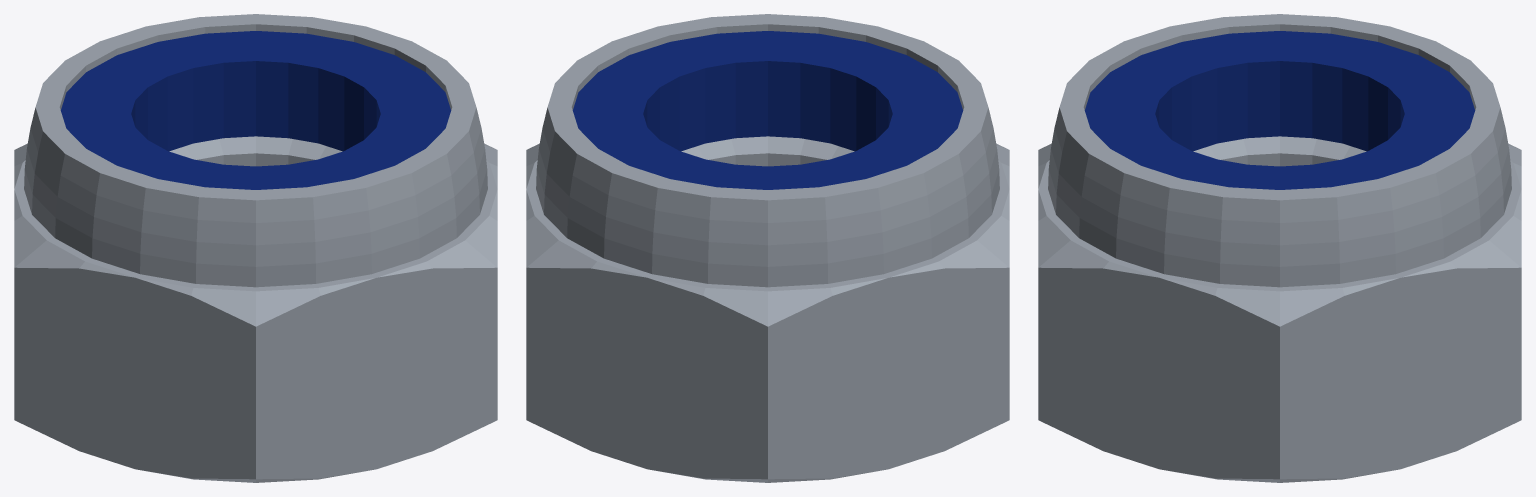
The model's file is model_display.glb.
3 views of the same model, side by side, from view 1: azimuth 30°, elevation 25°; view 2: azimuth 150°, elevation 25°; view 3: azimuth 270°, elevation 25° (orthographic).
Visible parts, largest first — view 1: steel, nylon_insert; view 2: steel, nylon_insert; view 3: steel, nylon_insert.
Boxes of the visible parts, x1=… form: steel: x1=14, y1=14, x2=497, y2=482; nylon_insert: x1=60, y1=31, x2=451, y2=189; steel: x1=526, y1=14, x2=1009, y2=482; nylon_insert: x1=572, y1=31, x2=963, y2=189; steel: x1=1038, y1=14, x2=1521, y2=482; nylon_insert: x1=1084, y1=31, x2=1475, y2=189.
Bounding box in the file's own units: 0.00924 × 0.005 × 0.008.
